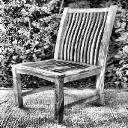chair_success: (4, 4, 120, 124)
